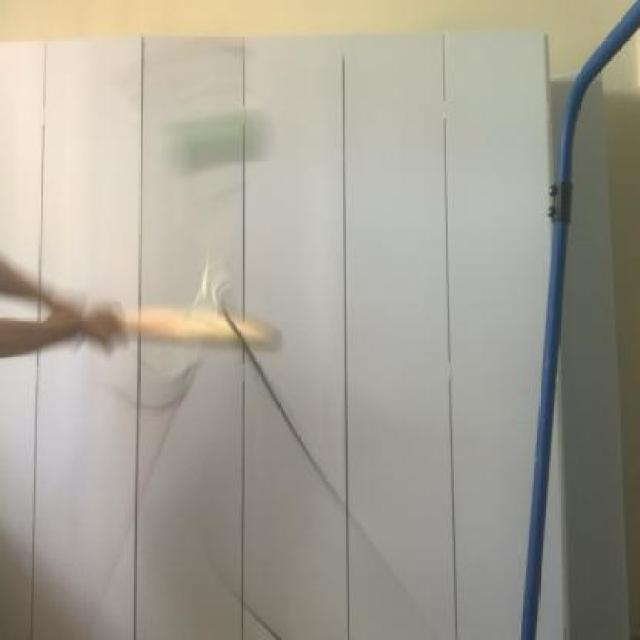baseball: (162, 96, 278, 187)
